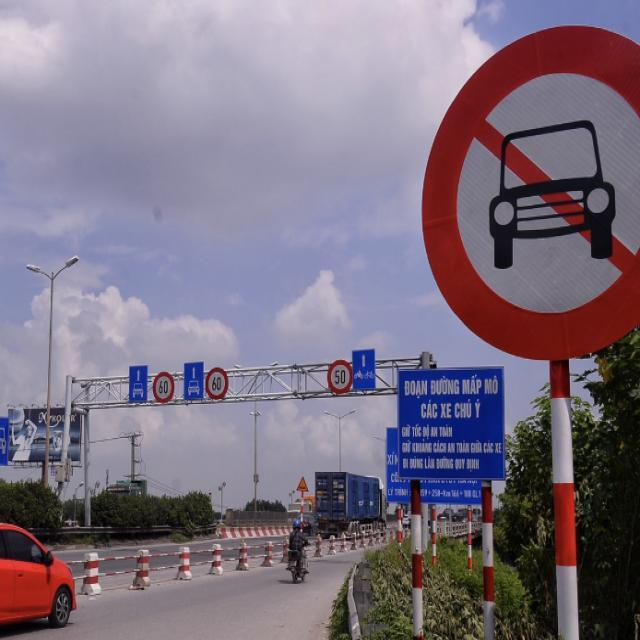103a-cam-oto: (420, 20, 640, 359)
127-toc-do-toi-da-50: (326, 358, 354, 398)
127-toc-do-toi-da-60: (152, 370, 175, 404), (206, 366, 229, 399)
